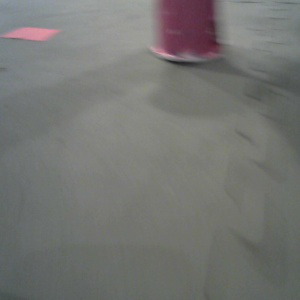right: (147, 1, 229, 64)
